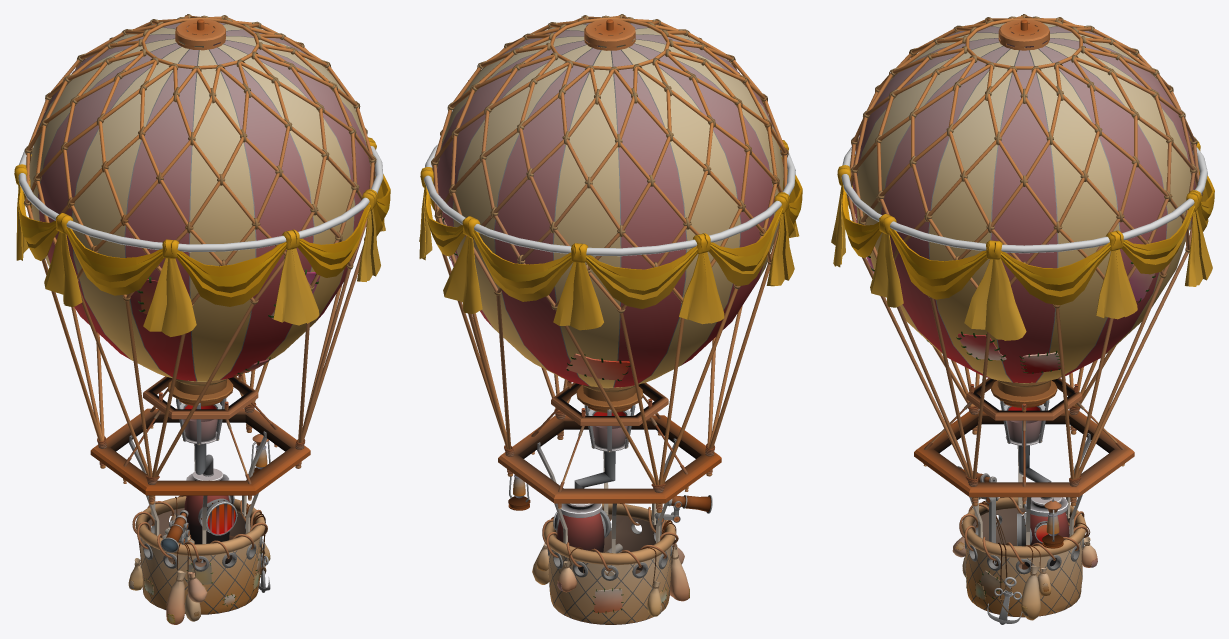
The model's file is Air Balloon.fbx.
3 renders of one model, left to right at view 1: azimuth 30°, elevation 25°; view 2: azimuth 150°, elevation 25°; view 3: azimuth 270°, elevation 25°, orthographic.
Parts seen in each view (by area): view 1: Sphere.003, Sphere.061, Plane.011, Plane.018, Cylinder, Cylinder.005, Sphere.001, Circle.008, Cylinder.011, Cylinder.003, Cylinder.001, Cylinder.002 (+10 smaller); view 2: Sphere.003, Sphere.061, Plane.011, Plane.018, Cylinder.005, Cylinder, Sphere.001, Circle.008, Cylinder.011, Cylinder.003, Cylinder.001, Cylinder.008 (+12 smaller); view 3: Sphere.003, Sphere.061, Plane.011, Plane.018, Cylinder, Cylinder.005, Sphere.001, Circle.008, Cylinder.011, Cylinder.003, Cylinder.002, Cylinder.001 (+11 smaller).
Boxes of the visible parts, x1,y1,x2,y2 form: Sphere.003: [29, 22, 370, 381]; Sphere.061: [25, 15, 375, 504]; Plane.011: [17, 154, 390, 306]; Plane.018: [16, 189, 385, 336]; Cylinder: [90, 408, 310, 495]; Cylinder.005: [140, 508, 260, 614]; Sphere.001: [18, 146, 383, 252]; Circle.008: [23, 14, 376, 306]; Cylinder.011: [135, 496, 265, 556]; Cylinder.003: [143, 376, 258, 419]; Cylinder.001: [175, 19, 225, 50]; Cylinder.002: [168, 378, 233, 406]; Sphere.003: [437, 22, 783, 387]; Sphere.061: [432, 15, 787, 512]; Plane.011: [424, 170, 802, 308]; Plane.018: [419, 180, 799, 330]; Cylinder.005: [548, 514, 671, 624]; Cylinder: [498, 415, 721, 503]; Sphere.001: [424, 145, 795, 256]; Circle.008: [431, 14, 788, 313]; Cylinder.011: [543, 503, 676, 565]; Cylinder.003: [551, 382, 668, 425]; Cylinder.001: [584, 19, 635, 50]; Cylinder.008: [557, 513, 604, 572]; Sphere.003: [853, 23, 1195, 382]; Sphere.061: [848, 15, 1199, 506]; Plane.011: [841, 155, 1214, 305]; Plane.018: [831, 187, 1212, 340]; Cylinder: [914, 410, 1134, 497]; Cylinder.005: [965, 508, 1082, 617]; Sphere.001: [841, 146, 1207, 253]; Circle.008: [846, 14, 1203, 308]; Cylinder.011: [961, 497, 1086, 558]; Cylinder.003: [966, 378, 1082, 420]; Cylinder.002: [991, 380, 1057, 407]; Cylinder.001: [998, 19, 1049, 50].
Size of the model in its own units: 1002 by 1679 by 1009.
